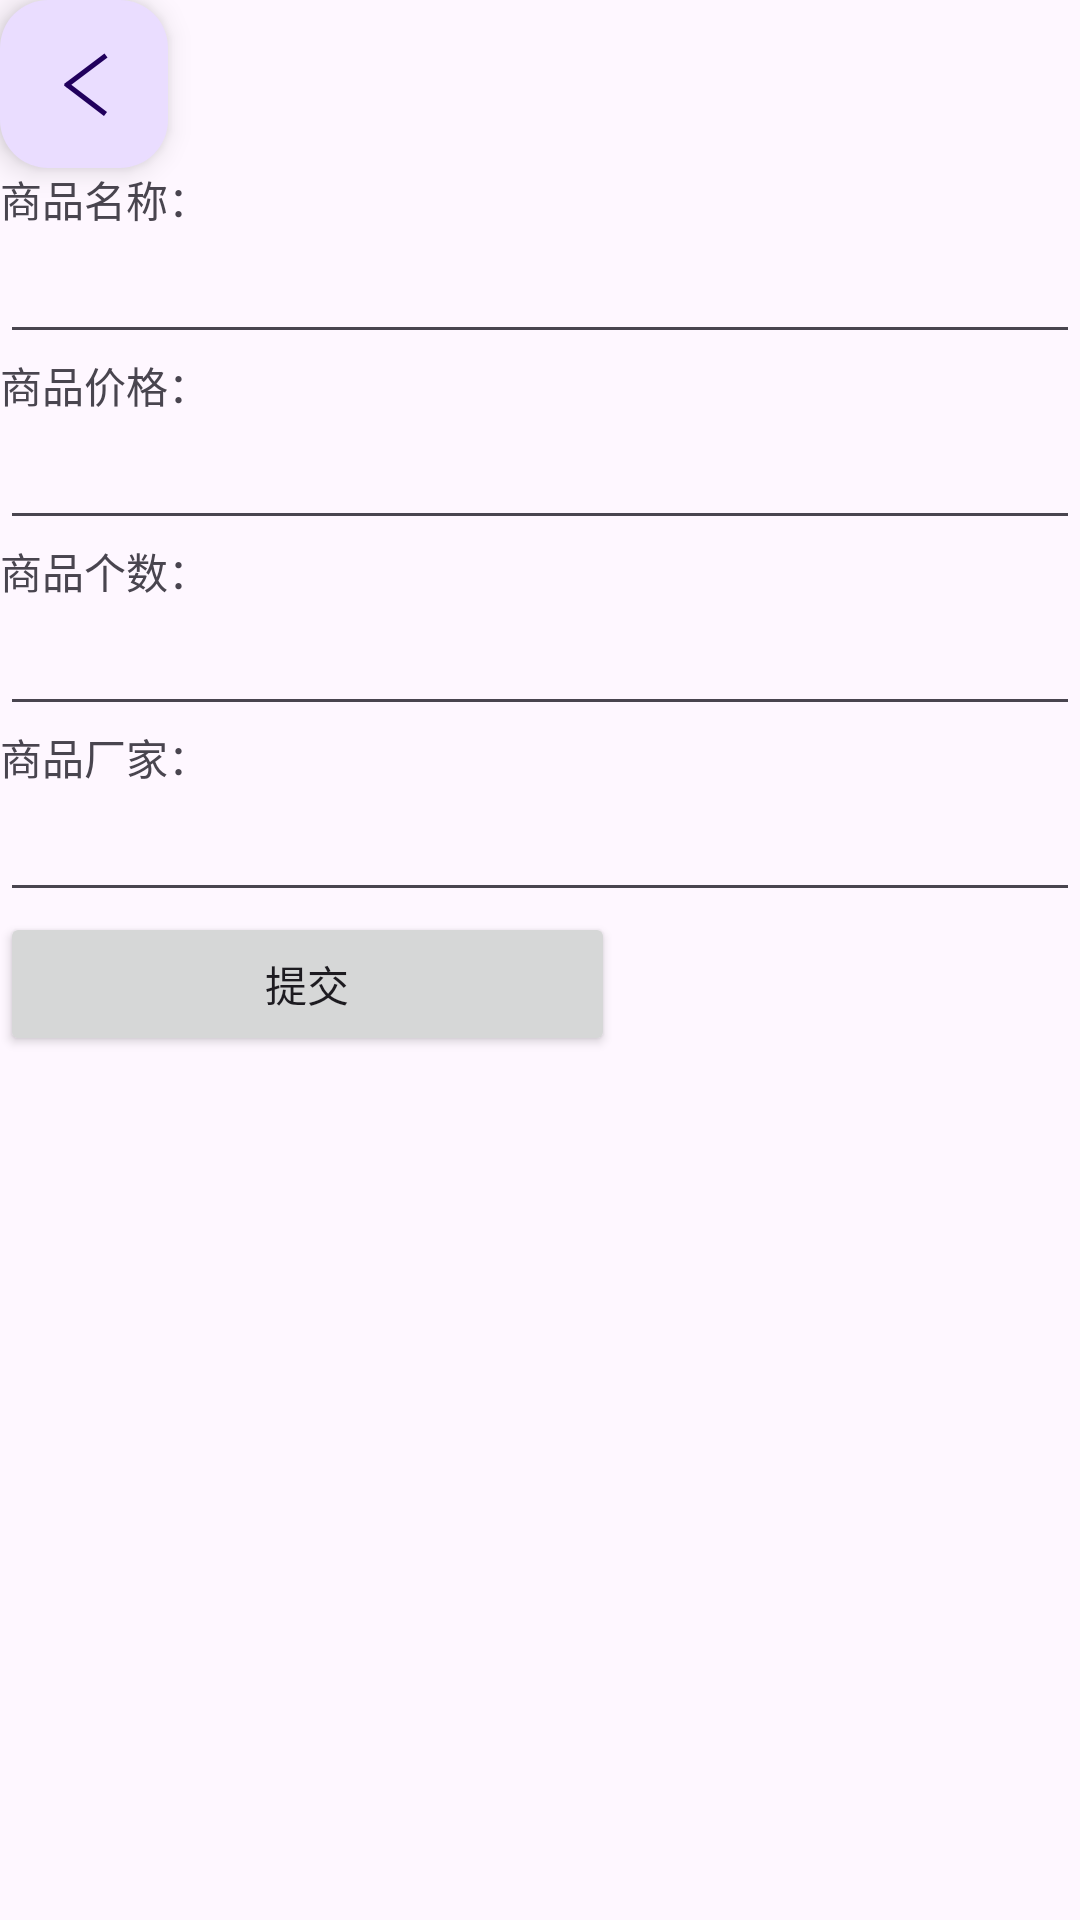

Icon click points for this 1080×1920 phone screenshot, format (x,y):
back: (84,84)
